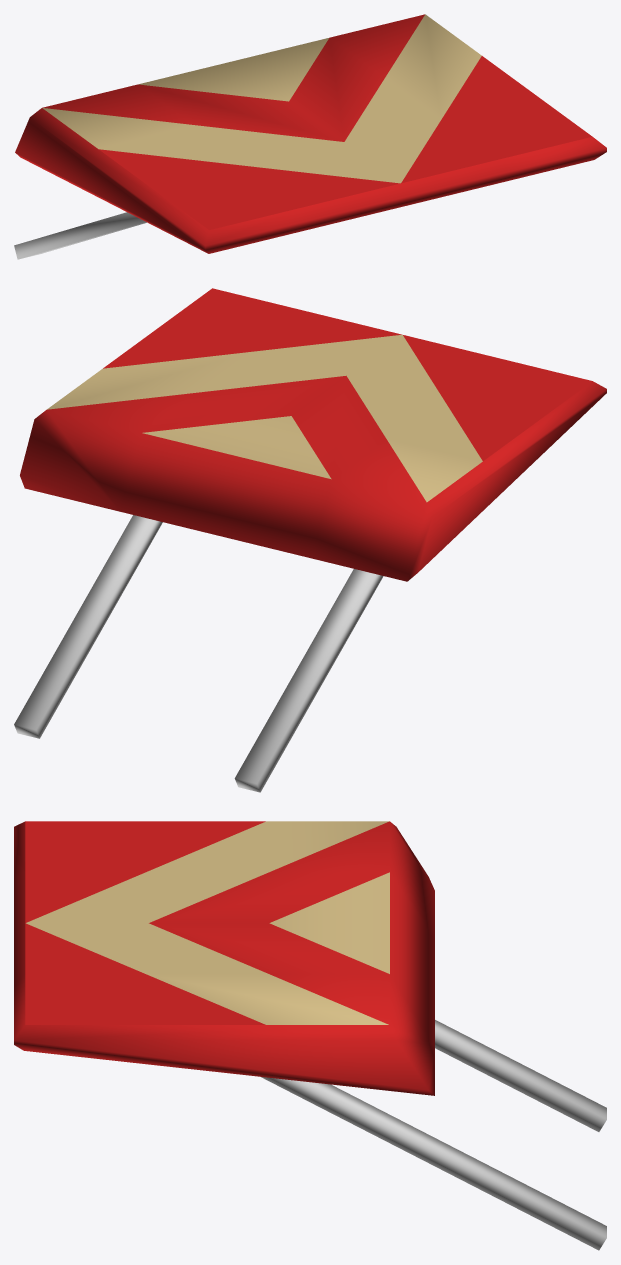
Rendered from Ramp 1.fbx.
3 renders of one model, top to bottom at view 1: azimuth 30°, elevation 25°; view 2: azimuth 150°, elevation 25°; view 3: azimuth 270°, elevation 25°, orthographic. The views are drawn at different scales.
Visible parts, largest first — view 1: NormalRamp; view 2: NormalRamp; view 3: NormalRamp.
Boxes of the visible parts, bbox=[...] form: NormalRamp: bbox=[14, 14, 606, 259]; NormalRamp: bbox=[14, 288, 606, 792]; NormalRamp: bbox=[14, 821, 606, 1250].
Bounding box in the file's own units: 8.07 × 4.6 × 9.48.
